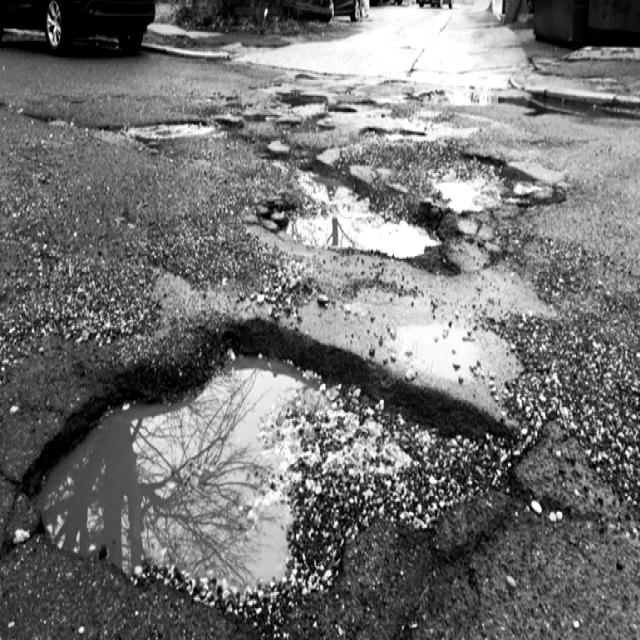pathole: (9, 42, 640, 632)
